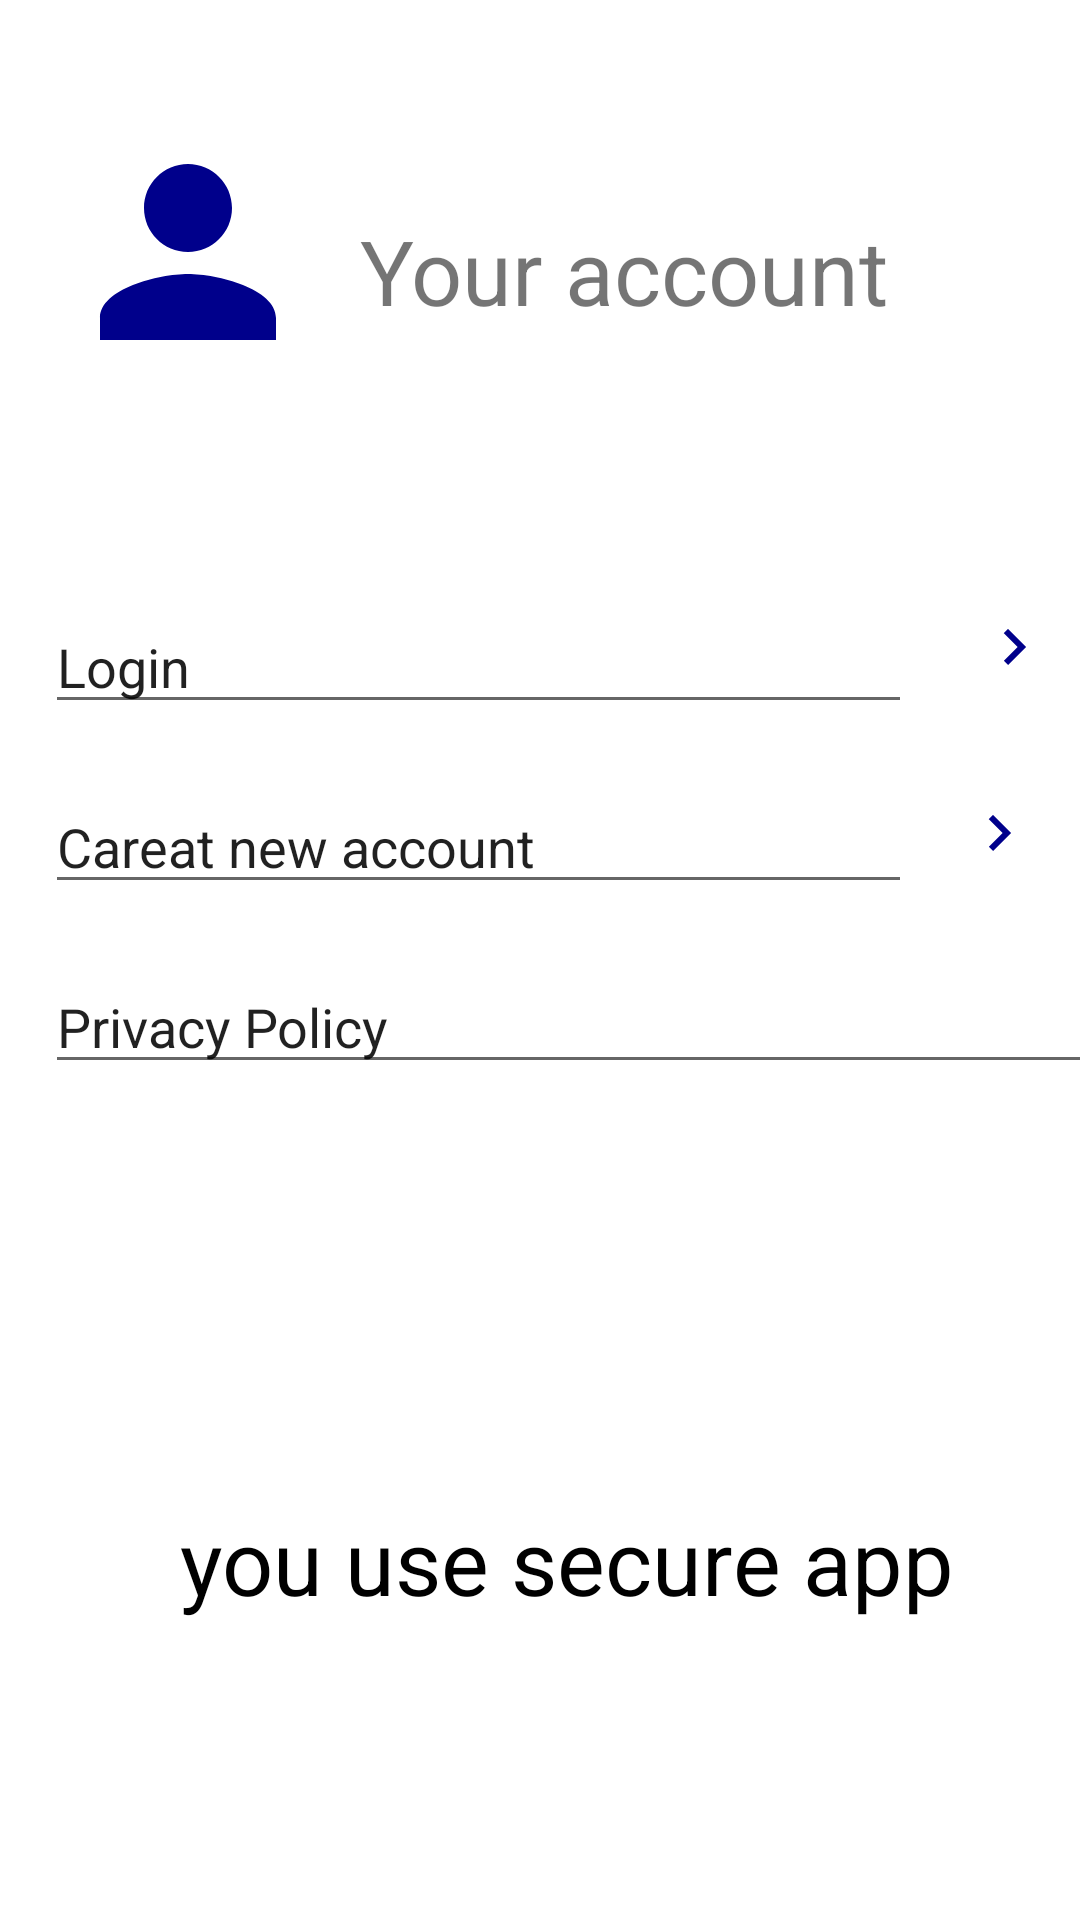

Screen size 1080 x 1920. Icon name, then its center in pixels as [x,y]:
person: [188,252]
